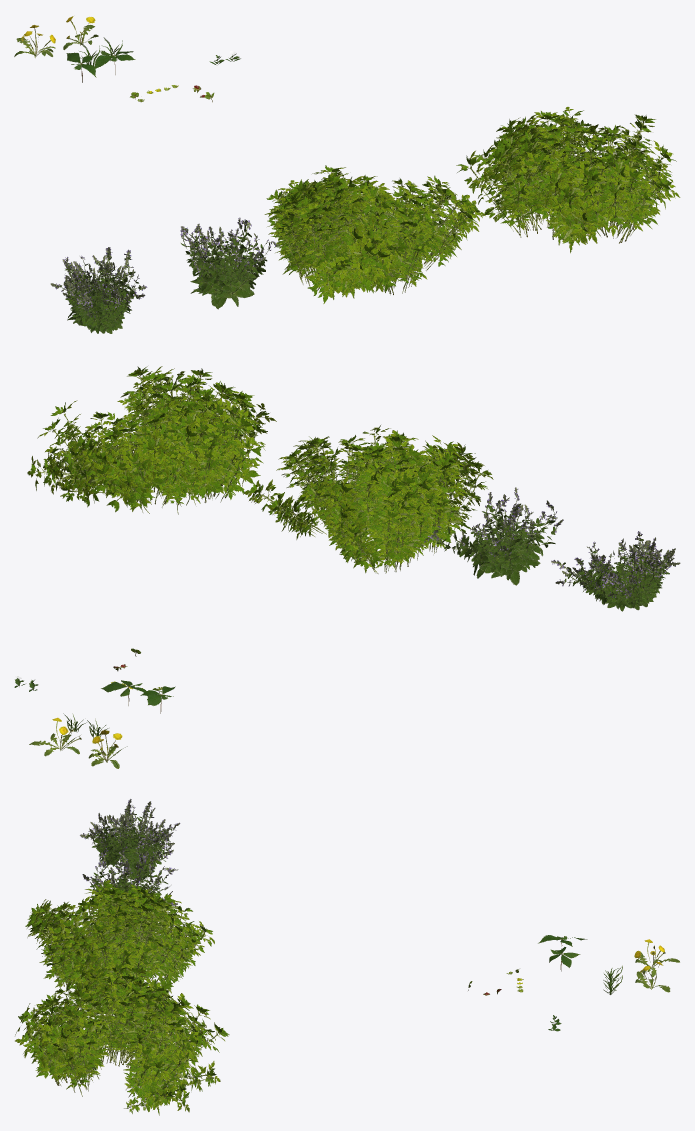
The model's file is map_bushes.glb.
3 views of the same model, one above another, from view 1: azimuth 30°, elevation 25°; view 2: azimuth 150°, elevation 25°; view 3: azimuth 270°, elevation 25° (orthographic). The views are drawn at different scales.
Visible parts, largest first — view 1: Object_8, Object_17, Object_7, Object_3; view 2: Object_8, Object_17, Object_7, Object_3; view 3: Object_8, Object_17, Object_7, Object_3.
Boxes of the visible parts, box(x1,y1,x2,y2) form: Object_8: box(264, 107, 680, 303); Object_17: box(50, 217, 279, 333); Object_7: box(14, 16, 98, 58); Object_3: box(66, 50, 240, 82); Object_8: box(27, 366, 493, 573); Object_17: box(424, 487, 680, 611); Object_7: box(29, 717, 127, 768); Object_3: box(14, 678, 175, 713); Object_8: box(15, 879, 229, 1115); Object_17: box(80, 799, 180, 930); Object_7: box(634, 939, 679, 992); Object_3: box(538, 935, 587, 1031).
Bounding box in the file's own units: 14.17 × 2.45 × 15.06.
7 materials, 7 textured.
